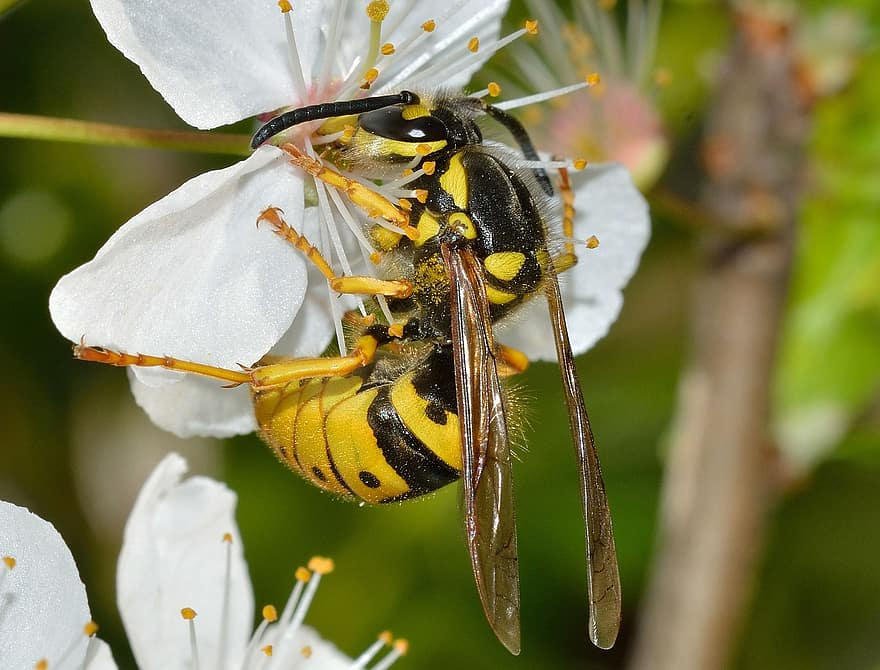chax: (48, 35, 704, 661)
